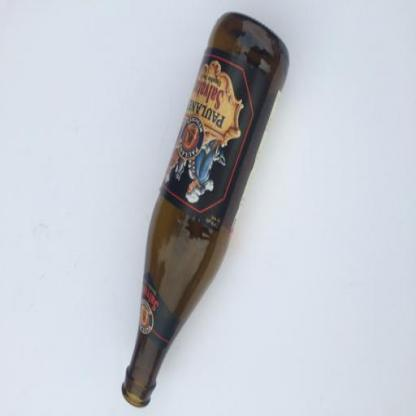trash: (121, 11, 291, 411)
